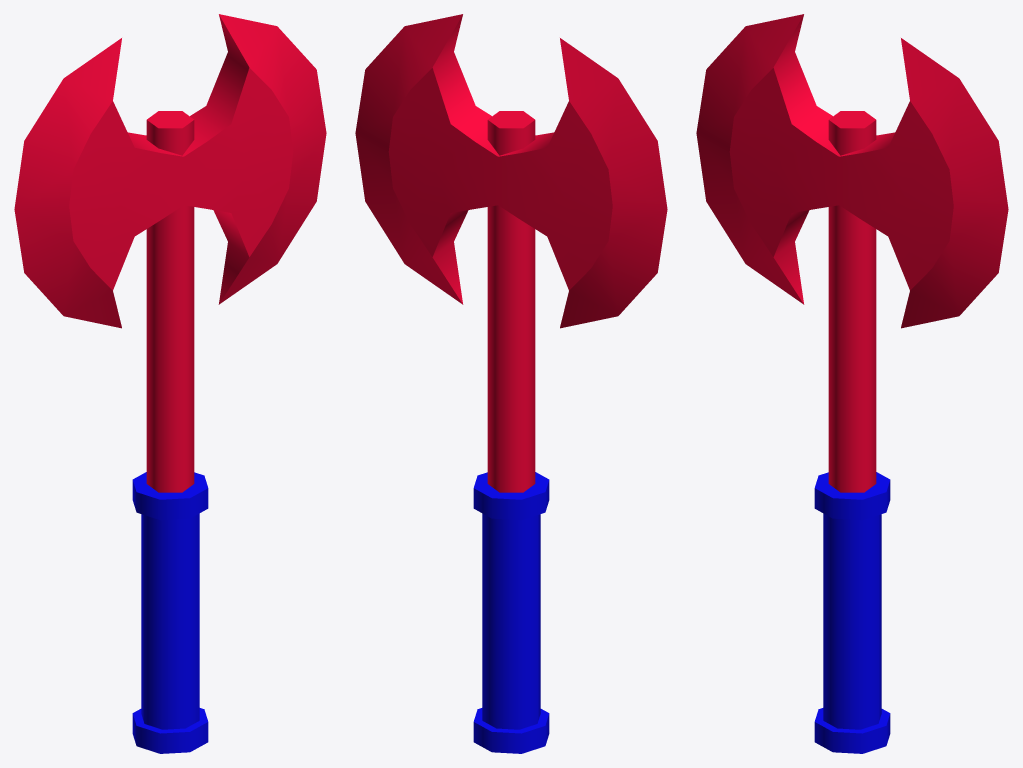
File: CastingRoom_BattleAxe.fbx
The picture shows the model from 3 angles, left to right: view 1: azimuth 30°, elevation 25°; view 2: azimuth 150°, elevation 25°; view 3: azimuth 330°, elevation 25°; orthographic projection.
Visible parts, largest first — view 1: CastingRoom_BattleAxe; view 2: CastingRoom_BattleAxe; view 3: CastingRoom_BattleAxe.
Boxes of the visible parts, <box> form: CastingRoom_BattleAxe: <box>14,14,326,753</box>; CastingRoom_BattleAxe: <box>355,14,667,753</box>; CastingRoom_BattleAxe: <box>696,14,1008,753</box>.
Bounding box in the file's own units: 133 × 290 × 28.9.
